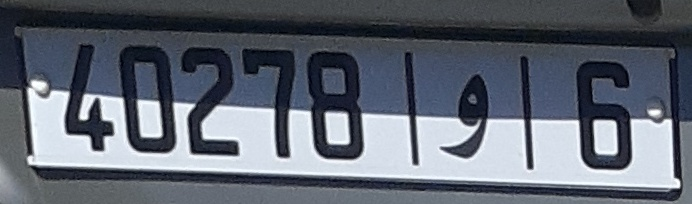0: (119, 38, 175, 160)
2: (182, 37, 240, 160)
4: (49, 34, 119, 163)
6: (563, 52, 643, 179)
7: (236, 43, 303, 163)
8: (301, 47, 365, 164)
waw: (430, 66, 496, 170)
